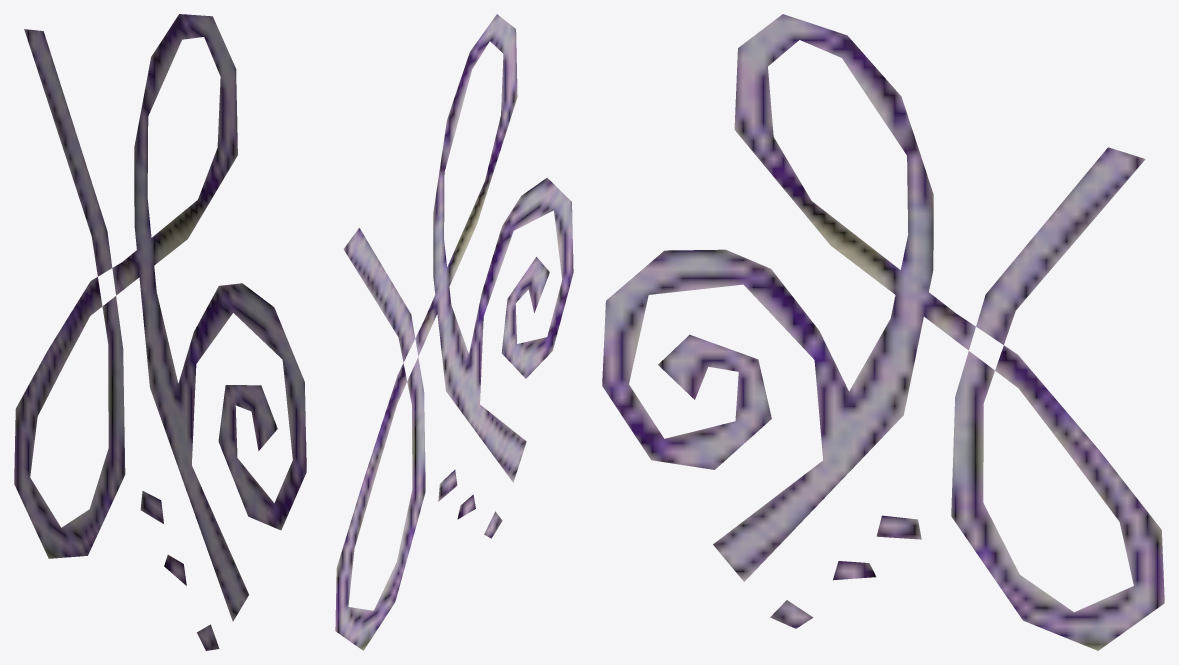
3 views of the same model, side by side, from view 1: azimuth 30°, elevation 25°; view 2: azimuth 150°, elevation 25°; view 3: azimuth 270°, elevation 25° (orthographic). The views are drawn at different scales.
Parts seen in each view (by area): view 1: Picsart_22-01-21_15-37-57-171.006; view 2: Picsart_22-01-21_15-37-57-171.006; view 3: Picsart_22-01-21_15-37-57-171.006.
Boxes of the visible parts, bbox=[...] form: Picsart_22-01-21_15-37-57-171.006: bbox=[14, 14, 306, 650]; Picsart_22-01-21_15-37-57-171.006: bbox=[335, 14, 573, 650]; Picsart_22-01-21_15-37-57-171.006: bbox=[602, 14, 1164, 650].
Bounding box in the file's own units: 9.74e-08 × 1.16 × 0.9253.
1 material, 1 textured.
